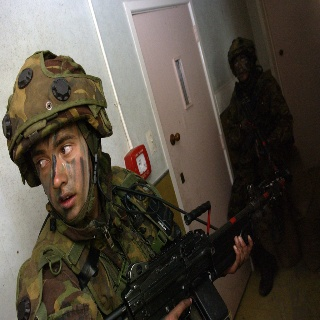rifle: (108, 187, 274, 320)
